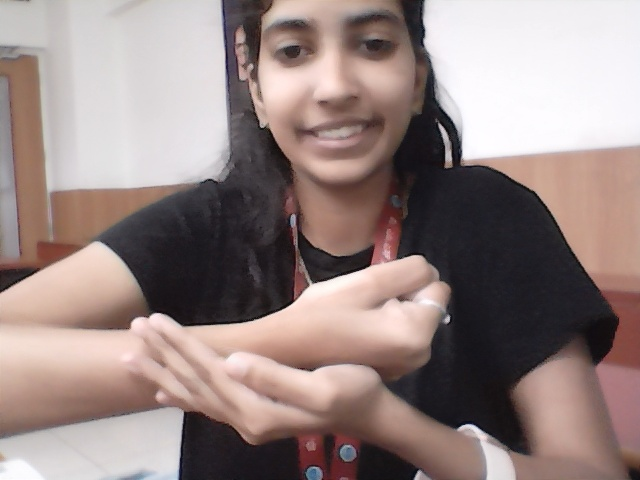Baby: (98, 227, 473, 467)
